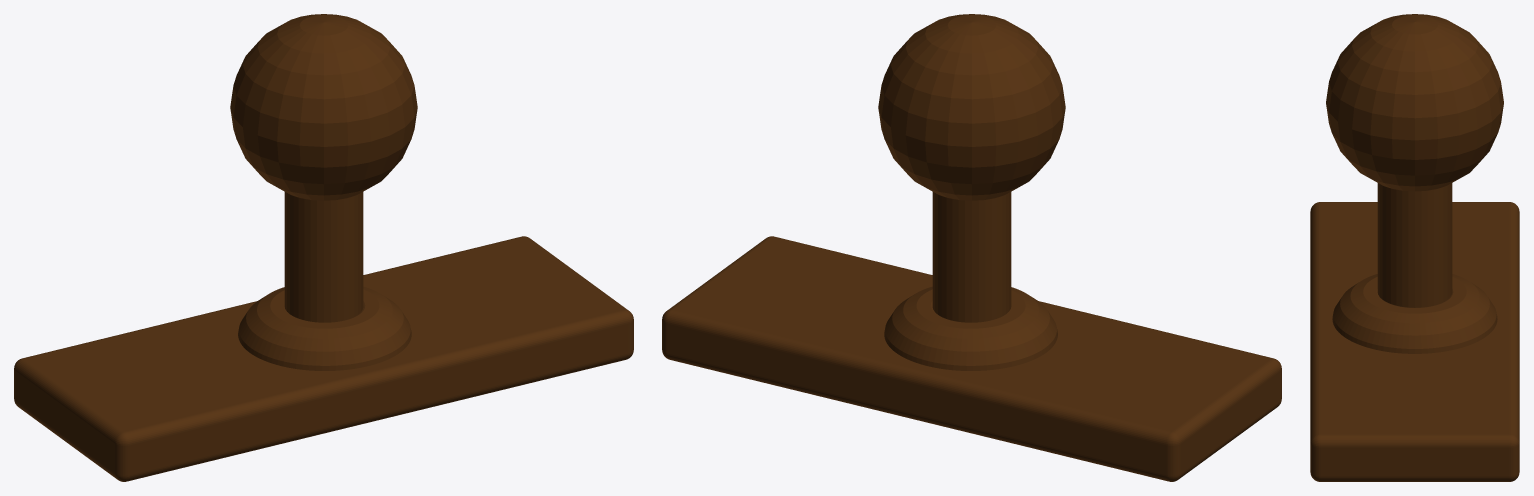
Rendered from sello.fbx.
3 views of the same model, side by side, from view 1: azimuth 30°, elevation 25°; view 2: azimuth 150°, elevation 25°; view 3: azimuth 270°, elevation 25° (orthographic). The views are drawn at different scales.
Parts seen in each view (by area): view 1: Rubber Stamp; view 2: Rubber Stamp; view 3: Rubber Stamp.
Part boxes in pixels (box(x1,y1,x2,y2)): Rubber Stamp: box(14, 14, 633, 481); Rubber Stamp: box(662, 14, 1281, 481); Rubber Stamp: box(1310, 14, 1519, 481).
Bounding box in the file's own units: 12750 × 8606 × 4695.
